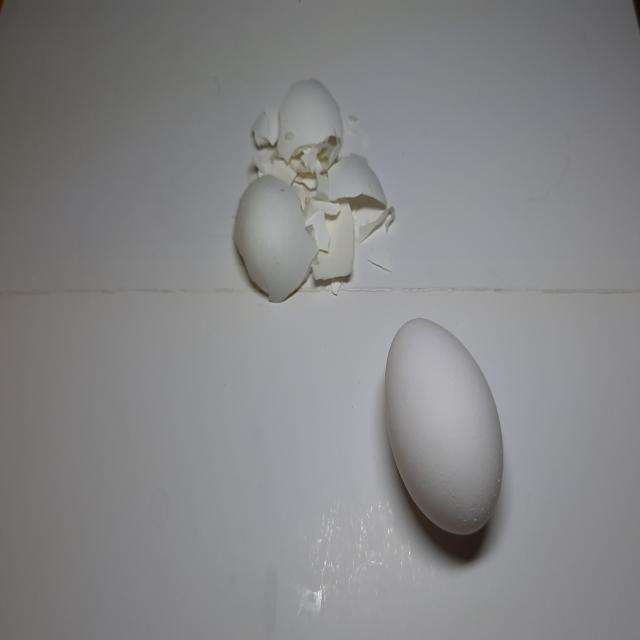egg shell: (380, 314, 507, 545), (235, 172, 311, 311), (247, 79, 343, 169), (306, 159, 396, 218), (305, 196, 363, 284)
